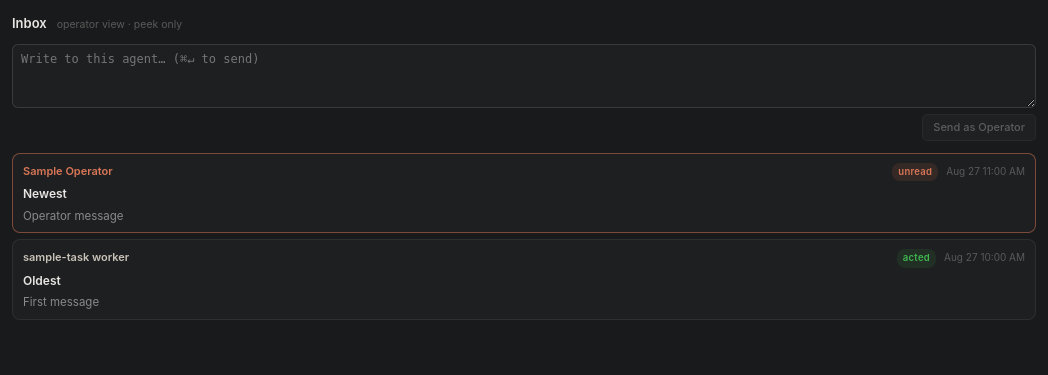
MailPane › peeks, renders newest first, and gates Edit to unread operator mail
The width and height of the screenshot is (1048, 375).
Expected: the list item that starts with "Sample Operator" shows "Newest", [13, 154, 1035, 232]
Expected: the list item that starts with "sample-task worker" shows "Oldest", [13, 240, 1035, 319]
// Expand the unread operator message: Edit appears.
Click the text "Operator message".
click(73, 216)  # box [23, 209, 124, 223]
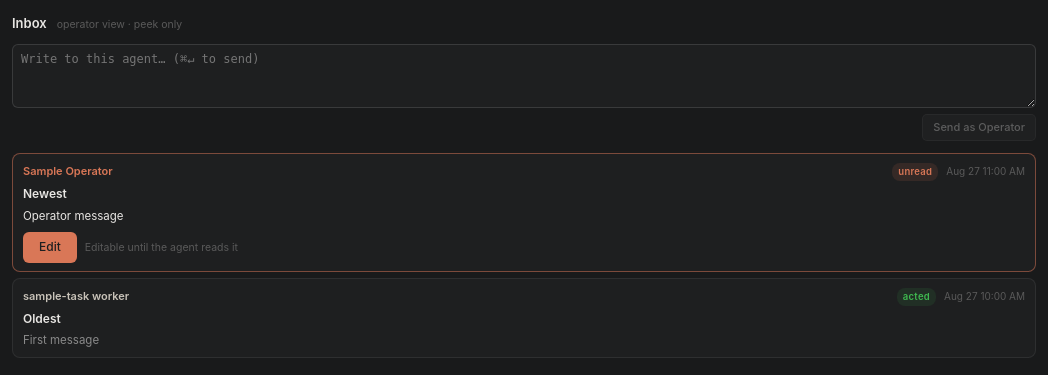
Now the button "Edit" is shown, box [23, 232, 77, 263]
// Expand the acted agent message: no Edit affordance.
Click the text "First message".
click(61, 340)  # box [23, 333, 99, 347]
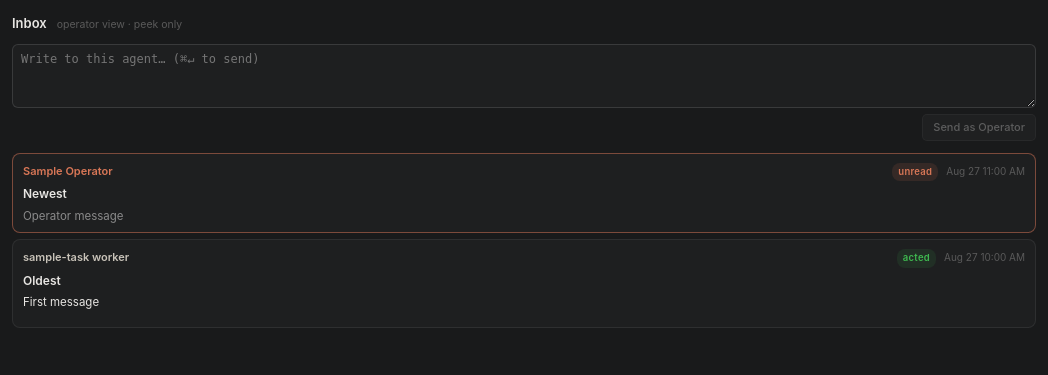
Now the button "Edit" is gone
